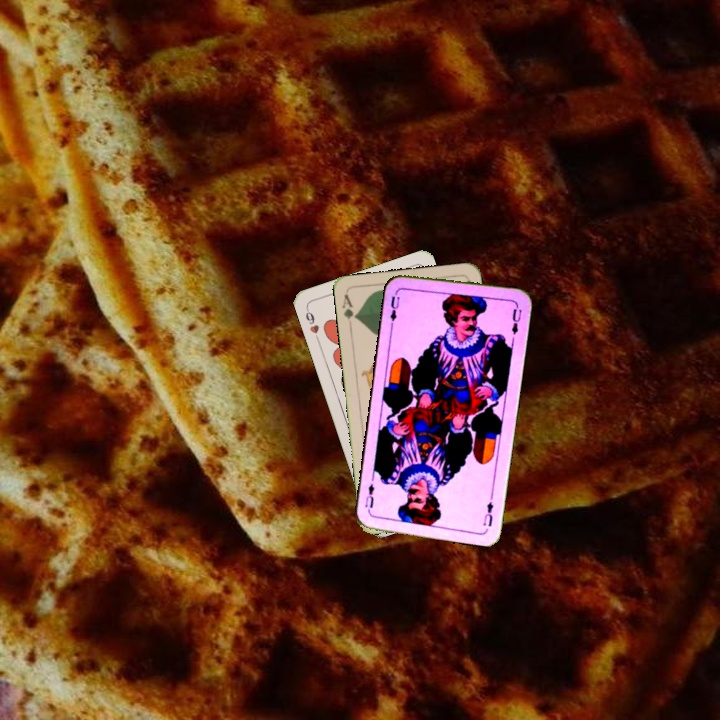EU: (386, 292, 402, 327), (479, 497, 496, 529)
GA: (338, 290, 360, 331)
H9: (301, 304, 322, 343)
